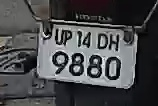0: (105, 56, 122, 82)
1: (74, 29, 83, 48)
4: (82, 31, 94, 49)
8: (70, 51, 86, 77), (86, 54, 102, 80)
9: (51, 49, 68, 76)
D: (96, 31, 108, 50)
H: (108, 32, 121, 52)
P: (63, 29, 73, 47)
U: (53, 28, 64, 46)
